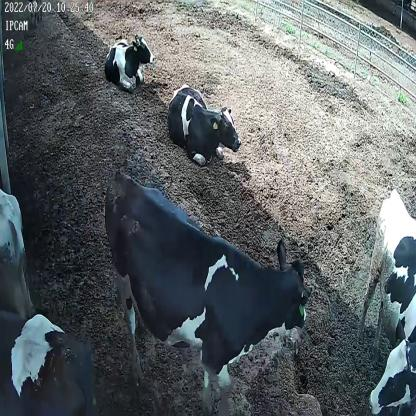cow: (104, 166, 312, 412), (355, 185, 416, 416), (166, 82, 244, 168), (104, 29, 154, 90)
